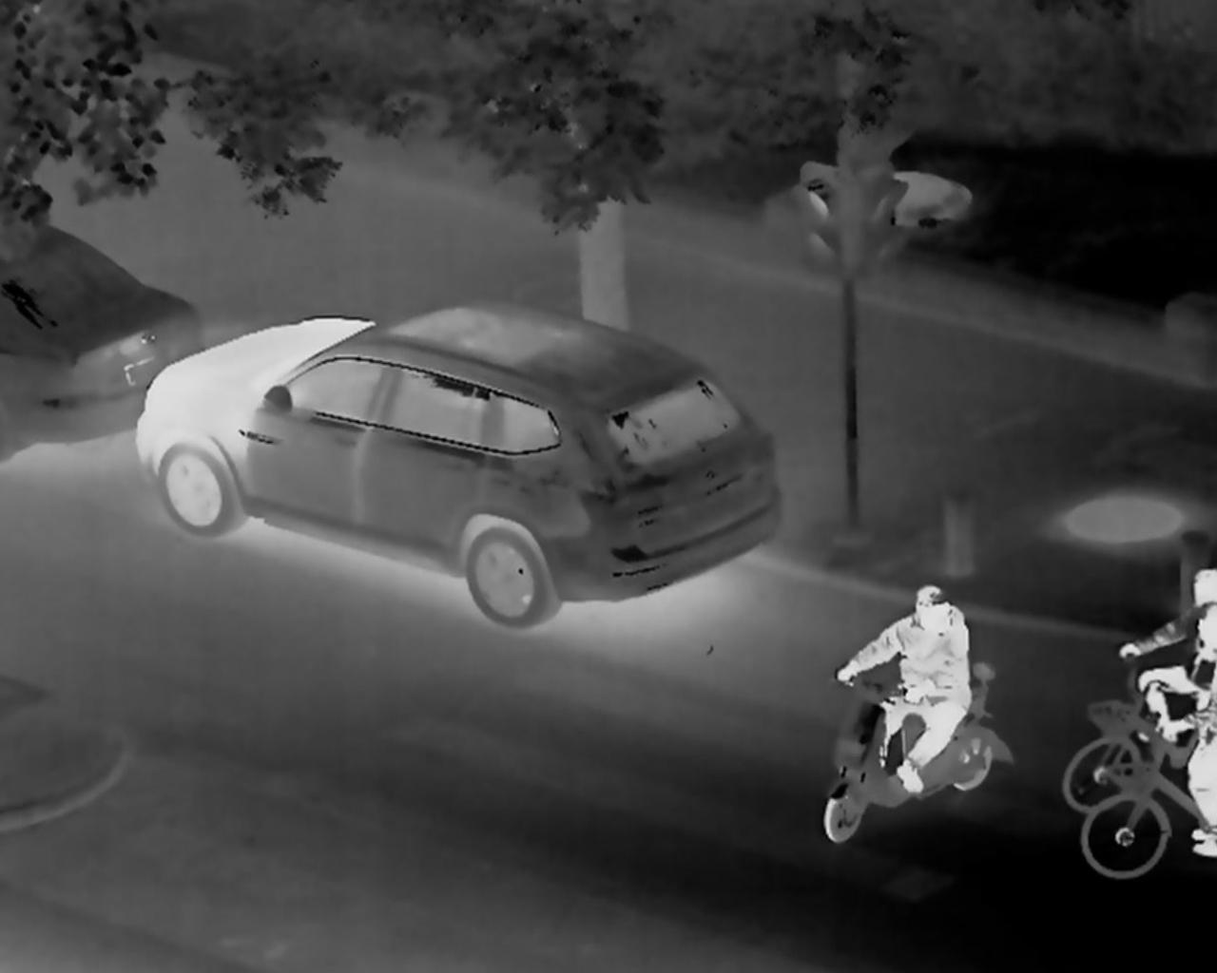person: (831, 582, 974, 802), (1136, 603, 1217, 860), (1114, 560, 1217, 679)
